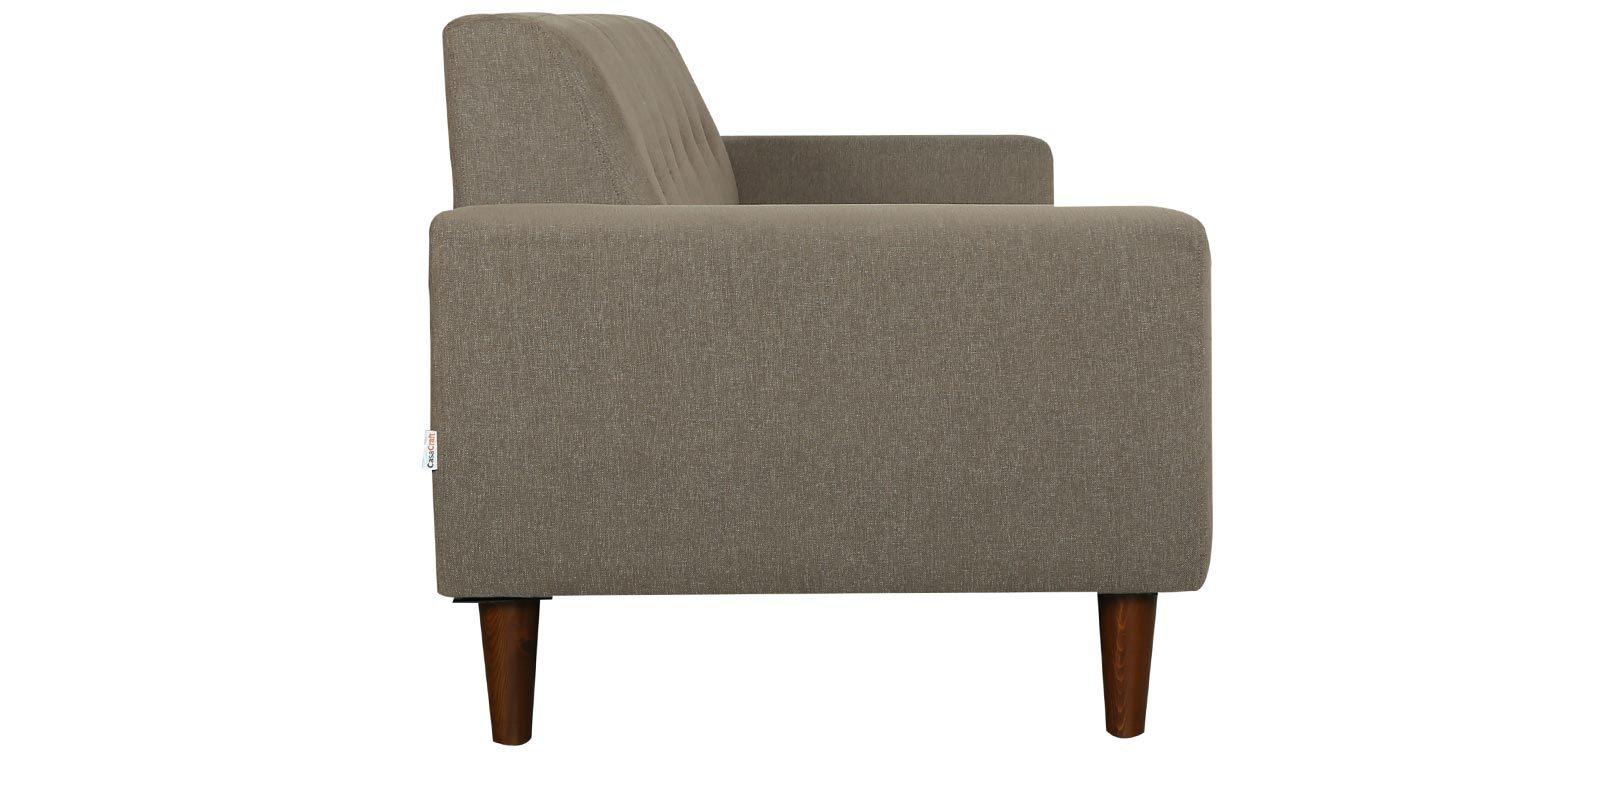Cordoba Three Seater Sofa in Sandy Brown Colour by CasaCraft: (400, 1, 1233, 752)
